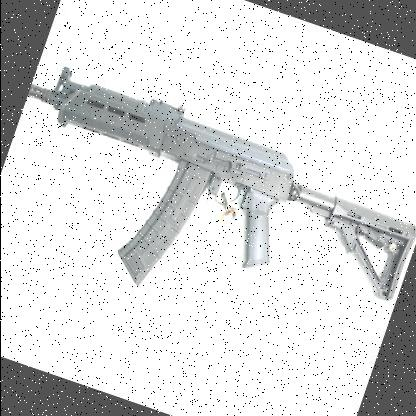rifle: (0, 44, 416, 371)
